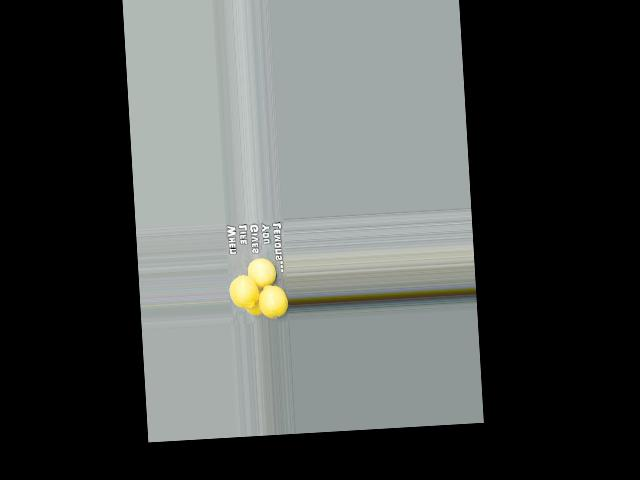lemon: (258, 282, 286, 319)
